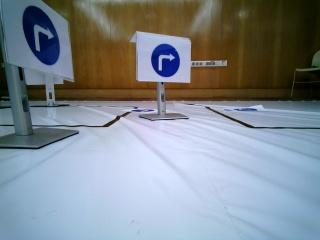right: (0, 0, 73, 77), (137, 38, 190, 82)
